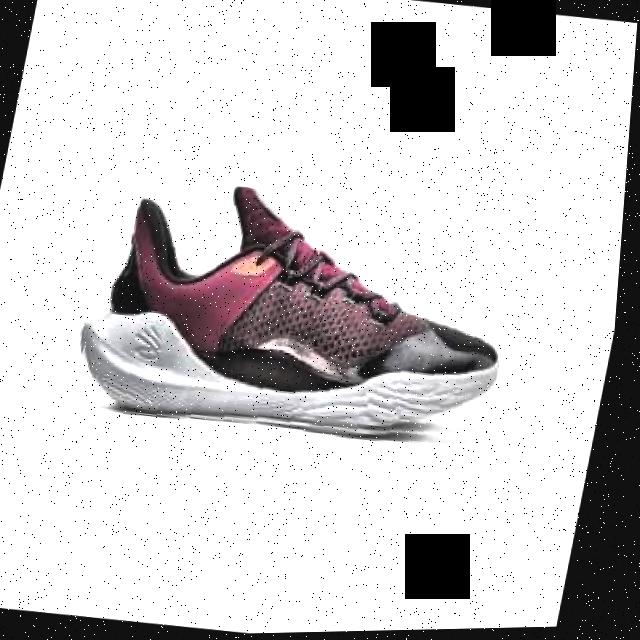shoe: (70, 166, 535, 460)
